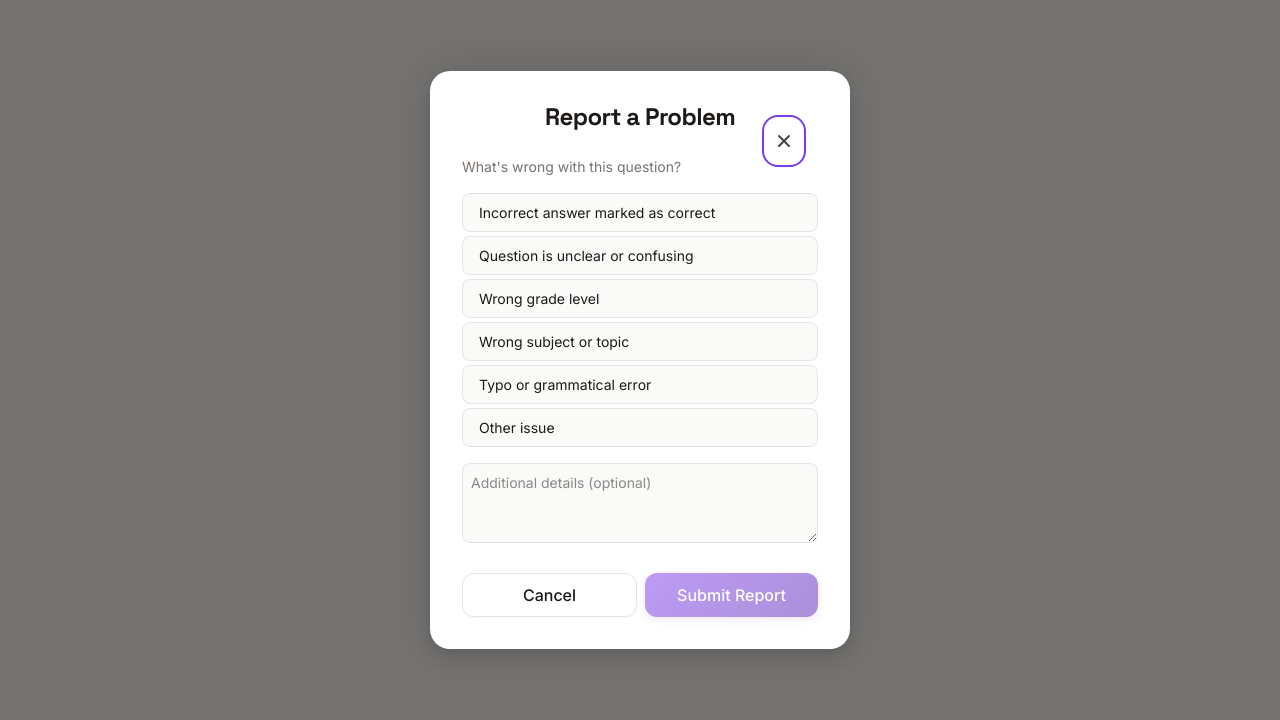
Scenario: FlagModal › enables submit after selecting a reason
The image size is (1280, 720).
Note: Click on a reason
Click the button "Incorrect answer marked as correct": (640, 212) [462, 193, 818, 232]
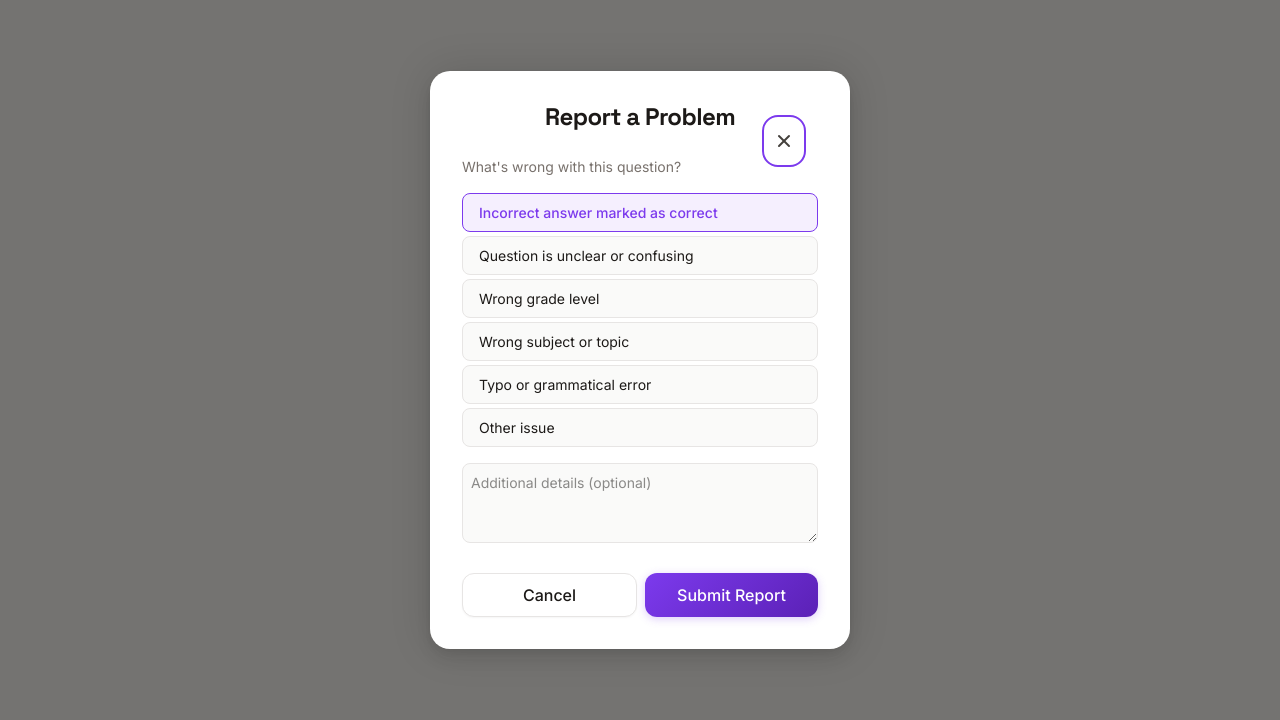
Check: the button "Submit Report" is enabled, box [645, 573, 818, 617]
